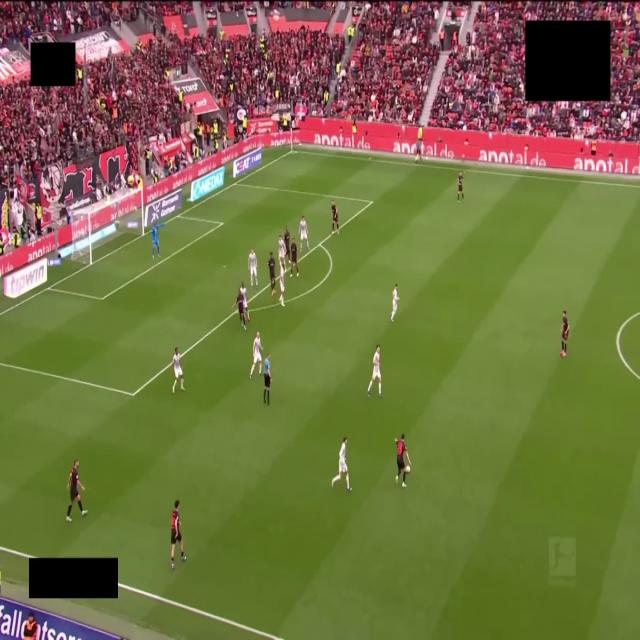ball: (405, 465, 410, 472)
player: (66, 459, 87, 521), (332, 437, 351, 491), (171, 500, 186, 568), (395, 434, 410, 487), (367, 345, 382, 397), (250, 333, 262, 378), (172, 348, 184, 392), (234, 289, 246, 330), (560, 310, 570, 358), (151, 223, 164, 258), (240, 282, 250, 321), (248, 249, 258, 287), (391, 284, 399, 322), (290, 239, 298, 276), (268, 253, 275, 295), (299, 216, 308, 248), (278, 236, 285, 269), (279, 268, 285, 306), (331, 201, 338, 233), (284, 226, 290, 263), (457, 172, 464, 201)
referee: (264, 354, 271, 405)
